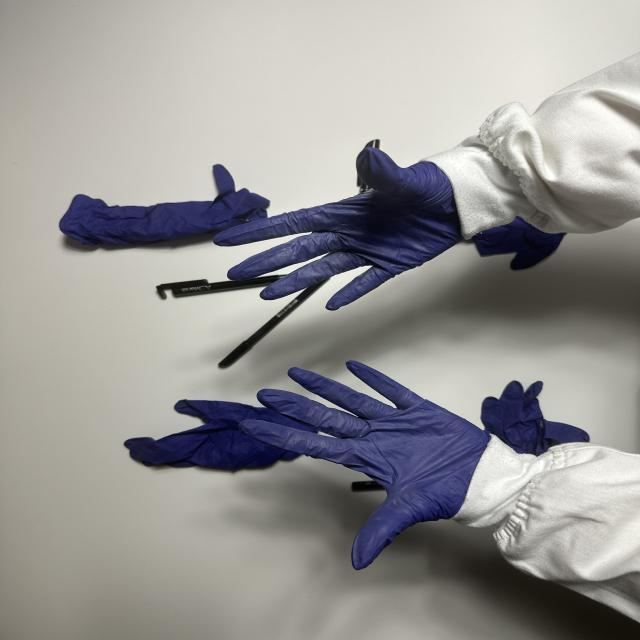gloves_contaminated: (240, 362, 490, 569), (215, 147, 462, 310)
